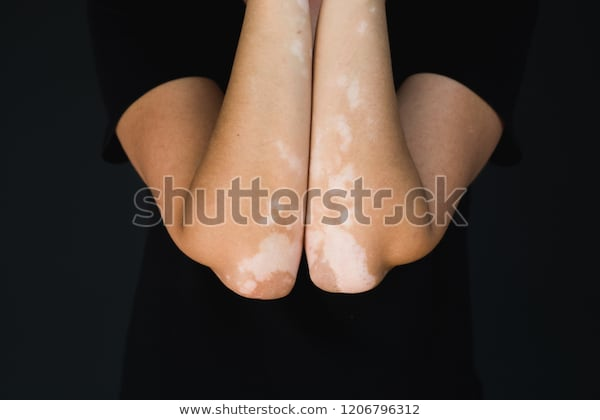vitiligo: (240, 160, 377, 295)
